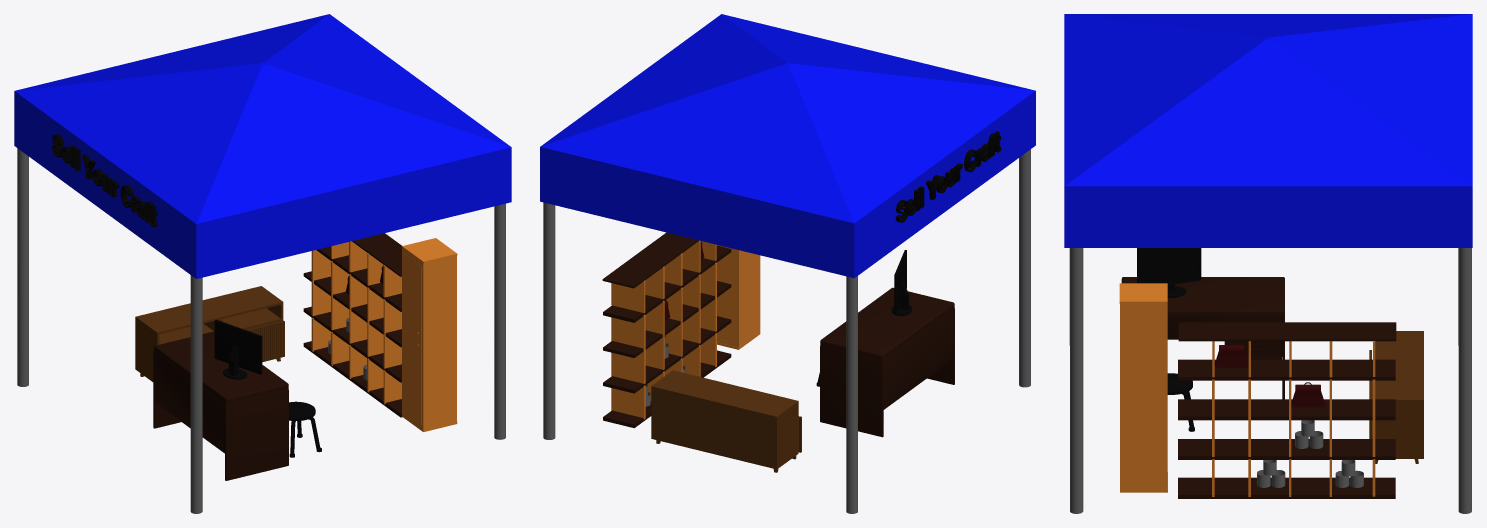
File: sell store 1.fbx
3 renders of one model, left to right at view 1: azimuth 30°, elevation 25°; view 2: azimuth 150°, elevation 25°; view 3: azimuth 270°, elevation 25°, orthographic. The views are drawn at different scales.
Visible parts, largest first — view 1: atap tent, kaki meja dosen kanan kiri001, Lemari kaca sisi kanan004, alas meja, cupboard badan utama, tiang tent 2, meja depan001, Lemari pintu004, tiang tent 1, tiang tent 4, text Sell Your Craft, Lemari kerangka utama004 (+10 smaller); view 2: atap tent, cupboard badan utama, kaki meja dosen kanan kiri001, alas meja, meja depan001, tiang tent 3, tiang tent 4, tiang tent 2, Lemari kaca sisi belakang013, text Sell Your Craft, Lemari pintu004, Lemari kaca sisi kiri004 (+11 smaller); view 3: atap tent, Lemari kaca sisi belakang015, alas meja, Lemari kaca sisi belakang013, Lemari kaca sisi belakang008, Lemari kaca sisi belakang014, Lemari kaca sisi belakang012, Lemari kaca sisi belakang010, tiang tent 3, tiang tent 1, cupboard badan utama, layar komputer (+8 smaller).
Boxes of the visible parts, bbox=[...] form: atap tent: bbox=[14, 14, 511, 278]; kaki meja dosen kanan kiri001: bbox=[153, 352, 288, 480]; Lemari kaca sisi kanan004: bbox=[426, 259, 454, 425]; alas meja: bbox=[154, 331, 288, 404]; cupboard badan utama: bbox=[135, 286, 283, 381]; tiang tent 2: bbox=[190, 275, 202, 513]; meja depan001: bbox=[154, 352, 224, 453]; Lemari pintu004: bbox=[403, 253, 421, 425]; tiang tent 1: bbox=[494, 203, 505, 439]; tiang tent 4: bbox=[17, 148, 28, 386]; text Sell Your Craft: bbox=[52, 134, 157, 227]; Lemari kerangka utama004: bbox=[402, 248, 456, 429]; atap tent: bbox=[540, 14, 1035, 278]; cupboard badan utama: bbox=[651, 370, 798, 469]; kaki meja dosen kanan kiri001: bbox=[820, 308, 954, 437]; alas meja: bbox=[820, 287, 954, 360]; meja depan001: bbox=[883, 309, 953, 409]; tiang tent 3: bbox=[543, 202, 555, 439]; tiang tent 4: bbox=[846, 276, 857, 513]; tiang tent 2: bbox=[1019, 149, 1030, 387]; Lemari kaca sisi belakang013: bbox=[602, 232, 698, 288]; text Sell Your Craft: bbox=[895, 131, 1001, 222]; Lemari pintu004: bbox=[740, 250, 758, 342]; Lemari kaca sisi kiri004: bbox=[717, 245, 736, 343]; atap tent: bbox=[1064, 14, 1472, 247]; Lemari kaca sisi belakang015: bbox=[1123, 307, 1163, 486]; alas meja: bbox=[1121, 277, 1284, 317]; Lemari kaca sisi belakang013: bbox=[1178, 322, 1396, 341]; Lemari kaca sisi belakang008: bbox=[1178, 477, 1395, 498]; Lemari kaca sisi belakang014: bbox=[1178, 359, 1395, 378]; Lemari kaca sisi belakang012: bbox=[1178, 399, 1395, 418]; Lemari kaca sisi belakang010: bbox=[1178, 439, 1395, 457]; tiang tent 3: bbox=[1458, 248, 1471, 513]; tiang tent 1: bbox=[1070, 248, 1083, 513]; cupboard badan utama: bbox=[1375, 331, 1423, 458]; layar komputer: bbox=[1138, 248, 1199, 283].
Size of the model in its own units: 3037 by 3168 by 3000.
